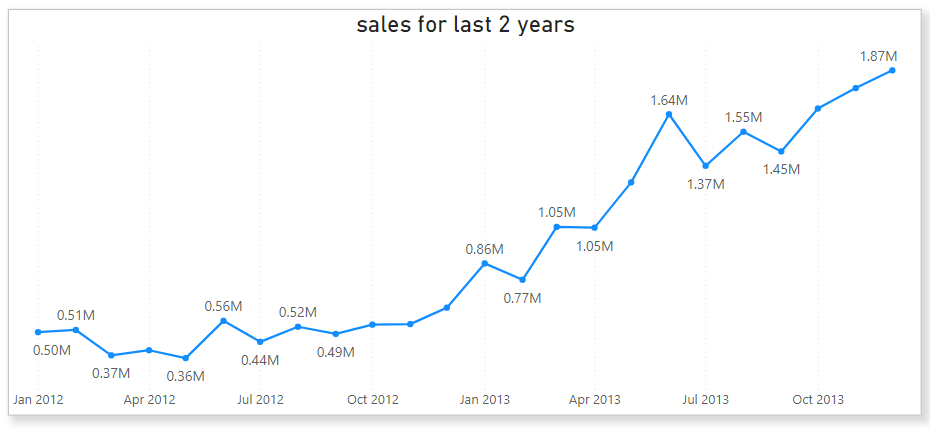

The page's visual inventory and layout, read from the dashboard file:
{"tool":"powerbi","page":{"name":"sales_overtime","canvas":[1280,720],"ordinal":3},"visuals":[{"type":"lineChart","title":"sales for last 2 years","fields":{"Category":["InternetSales.OrderDate.Variation.Date Hierarchy.Year","InternetSales.OrderDate.Variation.Date Hierarchy.Quarter","InternetSales.OrderDate.Variation.Date Hierarchy.Month"],"Y":["Sum(InternetSales.SalesAmount)"]},"box":[45.4,66,1218.1,541.7],"z":0}]}

Visuals, with their boxes on the page's 1280x720 design canvas (x1, y1, x2, y2). These are canvas units, not pixel positions in the 930x429 screenshot, which may show the page scaled, cropped or inside an application window:
"sales for last 2 years" lineChart: locate(45, 66, 1264, 608)
